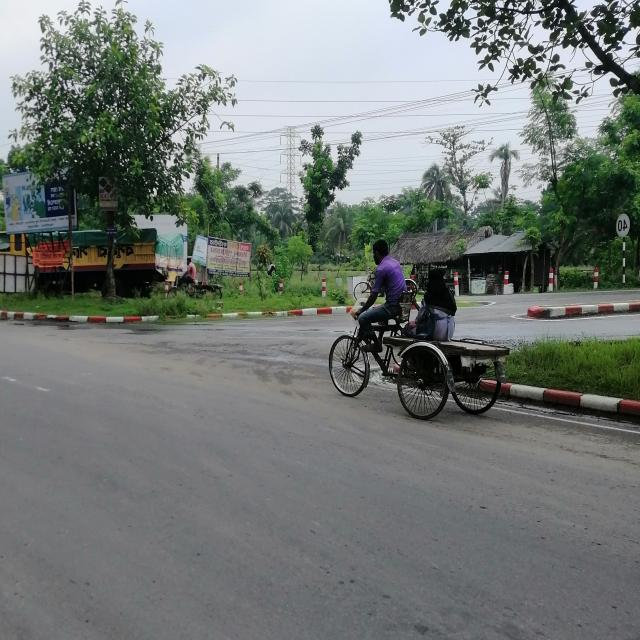Van: (317, 308, 510, 438)
